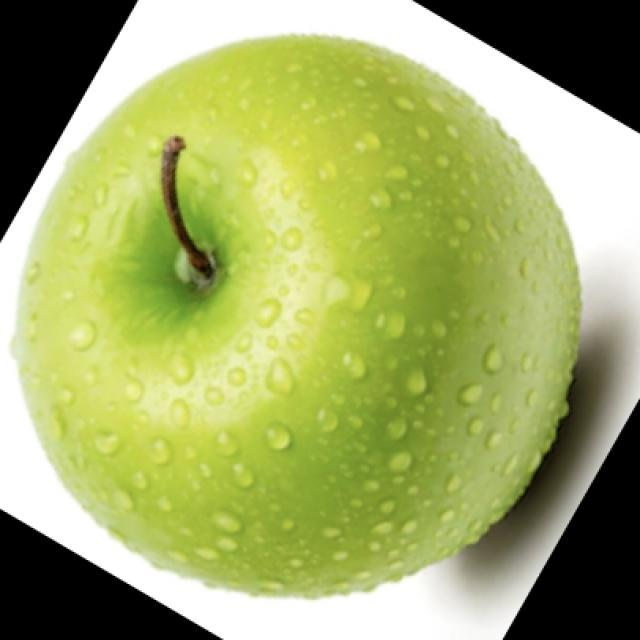Fresh Apple: (40, 30, 563, 637)
